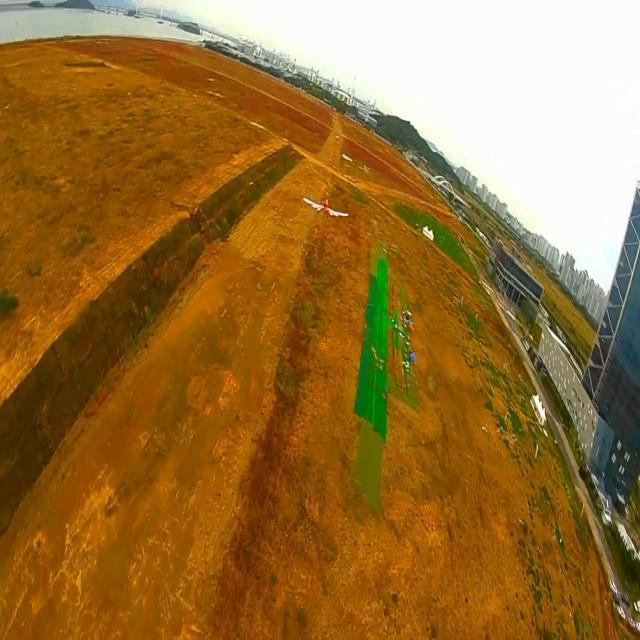iha: (302, 196, 351, 220)
